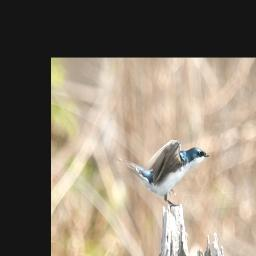Swallow: (117, 138, 210, 208)
